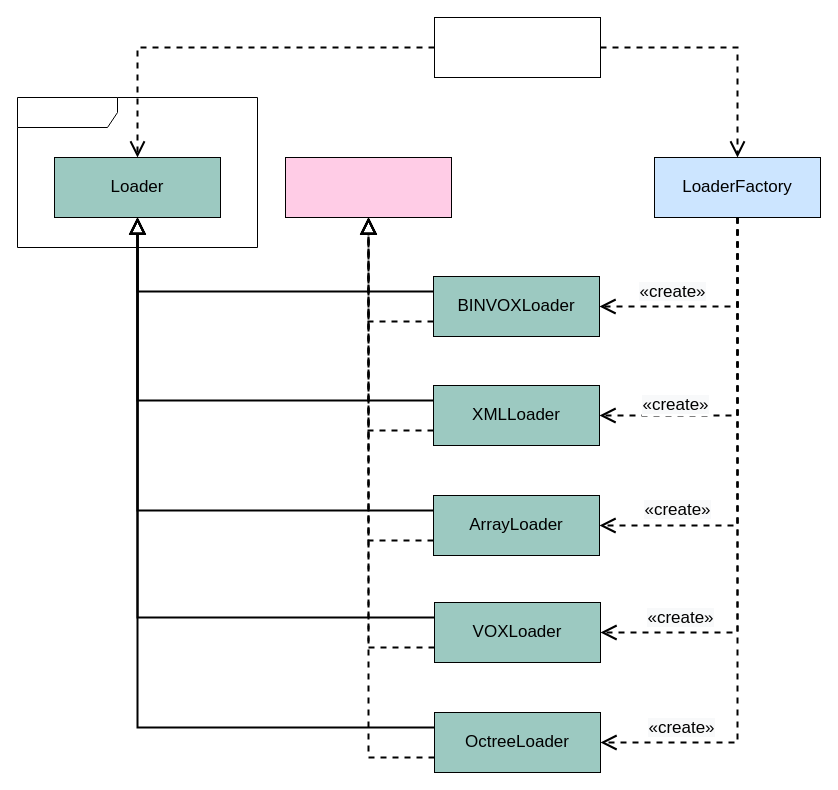
The diagram is 838 pixels wide and 790 high, and some of its shapes have lost their labels. Each missing label, with the box of its shape:
three.js: (16, 96, 258, 248)
VoxelLoader: (434, 16, 600, 78)
«mixin» levelOfDetail: (284, 156, 452, 218)
